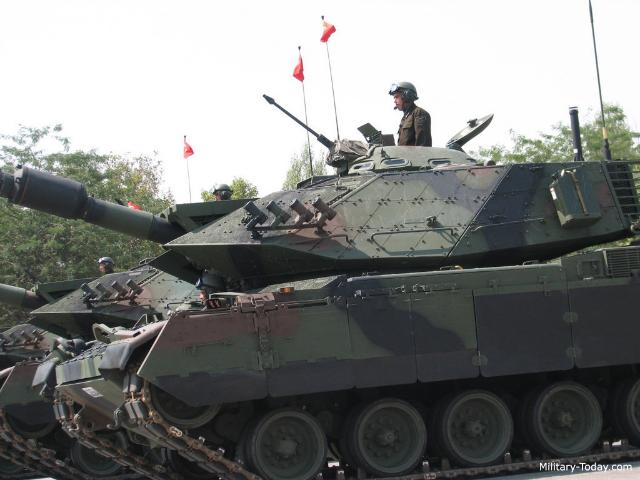other: (378, 81, 434, 139), (210, 180, 236, 206), (95, 248, 114, 281)
tank: (87, 138, 639, 478)
